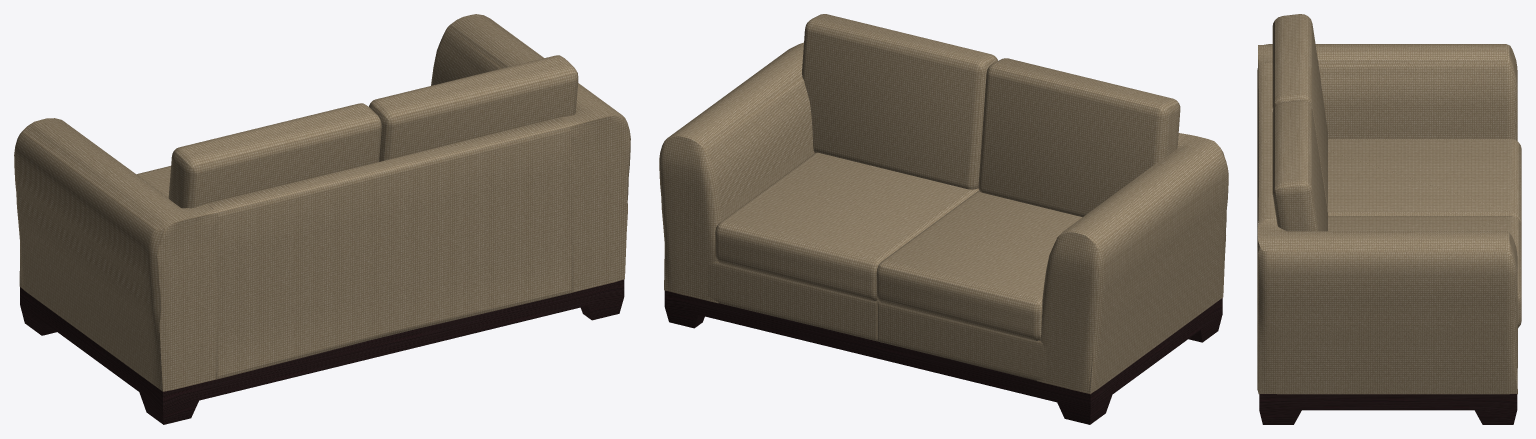
File: couch1.obj
The picture shows the model from 3 angles, left to right: view 1: azimuth 30°, elevation 25°; view 2: azimuth 150°, elevation 25°; view 3: azimuth 270°, elevation 25°; orthographic projection. The views are drawn at different scales.
Visible parts, largest first — view 1: main, base; view 2: main, base; view 3: main, base.
Boxes of the visible parts, left/top/right/bottom form: main: left=14, top=14, right=630, bottom=391; base: left=20, top=279, right=624, bottom=424; main: left=659, top=14, right=1228, bottom=394; base: left=664, top=290, right=1222, bottom=424; main: left=1257, top=14, right=1521, bottom=394; base: left=1259, top=394, right=1517, bottom=424.
Bounding box in the file's own units: 180 × 90 × 95.01.
2 materials, 2 textured.
